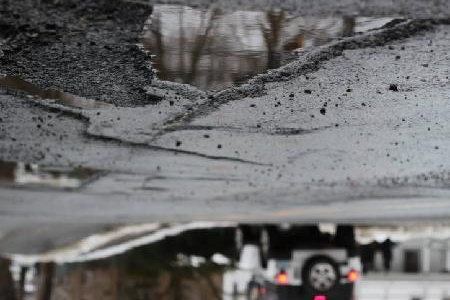pothole: (131, 2, 422, 105), (0, 71, 194, 150), (0, 158, 110, 194)
